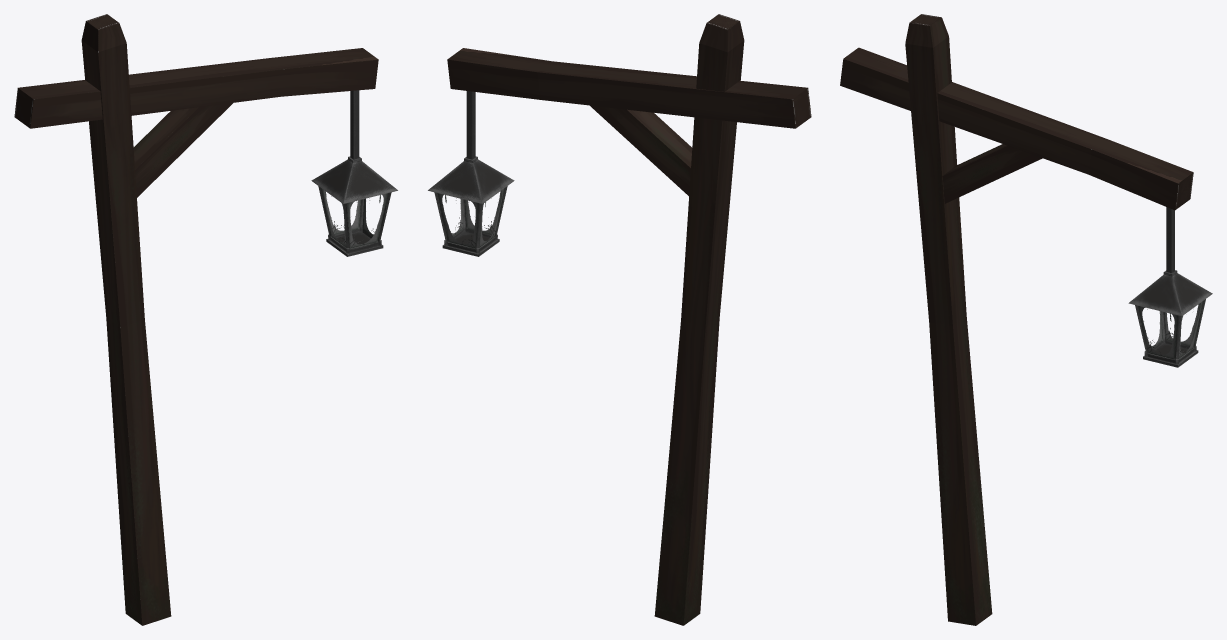
Rendered from Lamp_Post01.fbx.
3 views of the same model, side by side, from view 1: azimuth 30°, elevation 25°; view 2: azimuth 150°, elevation 25°; view 3: azimuth 330°, elevation 25° (orthographic). The views are drawn at different scales.
Parts seen in each view (by area): view 1: Lamp_Post_01, Lamp_Post_Lamp_01; view 2: Lamp_Post_01, Lamp_Post_Lamp_01; view 3: Lamp_Post_01, Lamp_Post_Lamp_01.
Boxes of the visible parts, bbox=[...] form: Lamp_Post_01: bbox=[14, 14, 378, 625]; Lamp_Post_Lamp_01: bbox=[311, 90, 397, 256]; Lamp_Post_01: bbox=[447, 14, 811, 625]; Lamp_Post_Lamp_01: bbox=[428, 91, 514, 256]; Lamp_Post_01: bbox=[840, 14, 1193, 625]; Lamp_Post_Lamp_01: bbox=[1128, 207, 1212, 367].
Size of the model in its own units: 2.49 by 4 by 0.3821.
1 material, 1 textured.
